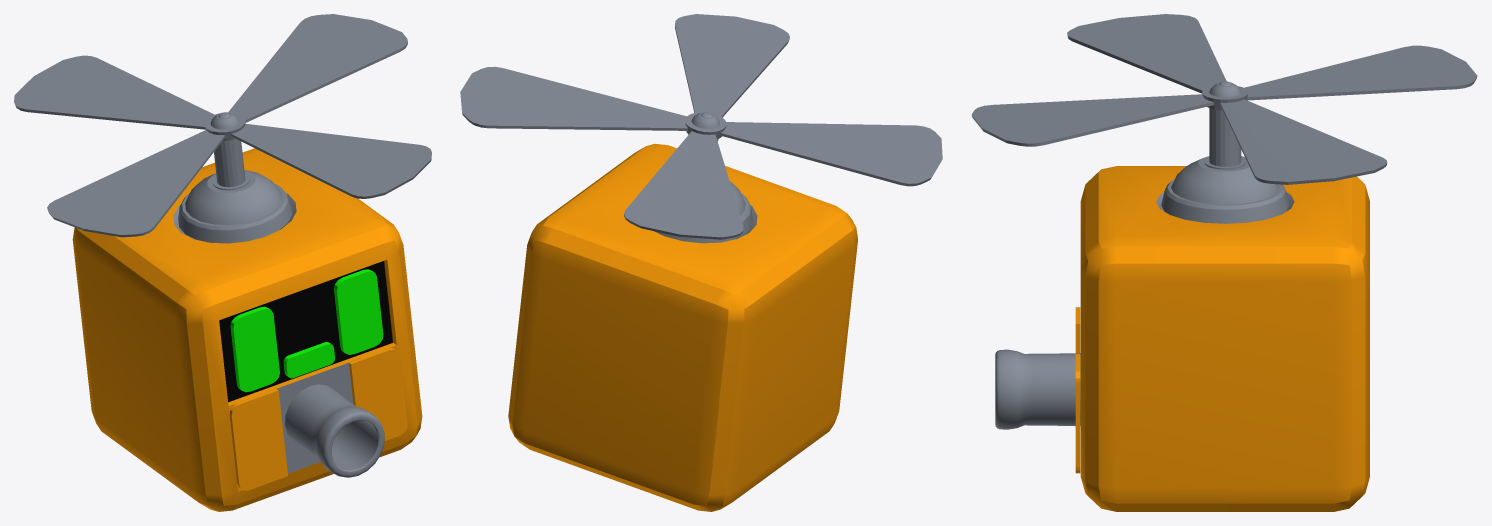
Rendered from Propeller5.fbx.
The picture shows the model from 3 angles, left to right: view 1: azimuth 30°, elevation 25°; view 2: azimuth 150°, elevation 25°; view 3: azimuth 270°, elevation 25°; orthographic projection. The views are drawn at different scales.
Parts seen in each view (by area): view 1: pCylinder14; view 2: pCylinder14; view 3: pCylinder14.
Boxes of the visible parts, left/top/right/bottom form: pCylinder14: left=14, top=14, right=431, bottom=511; pCylinder14: left=460, top=14, right=942, bottom=511; pCylinder14: left=971, top=14, right=1477, bottom=511.
Bounding box in the file's own units: 52.13 × 44.1 × 50.89.
